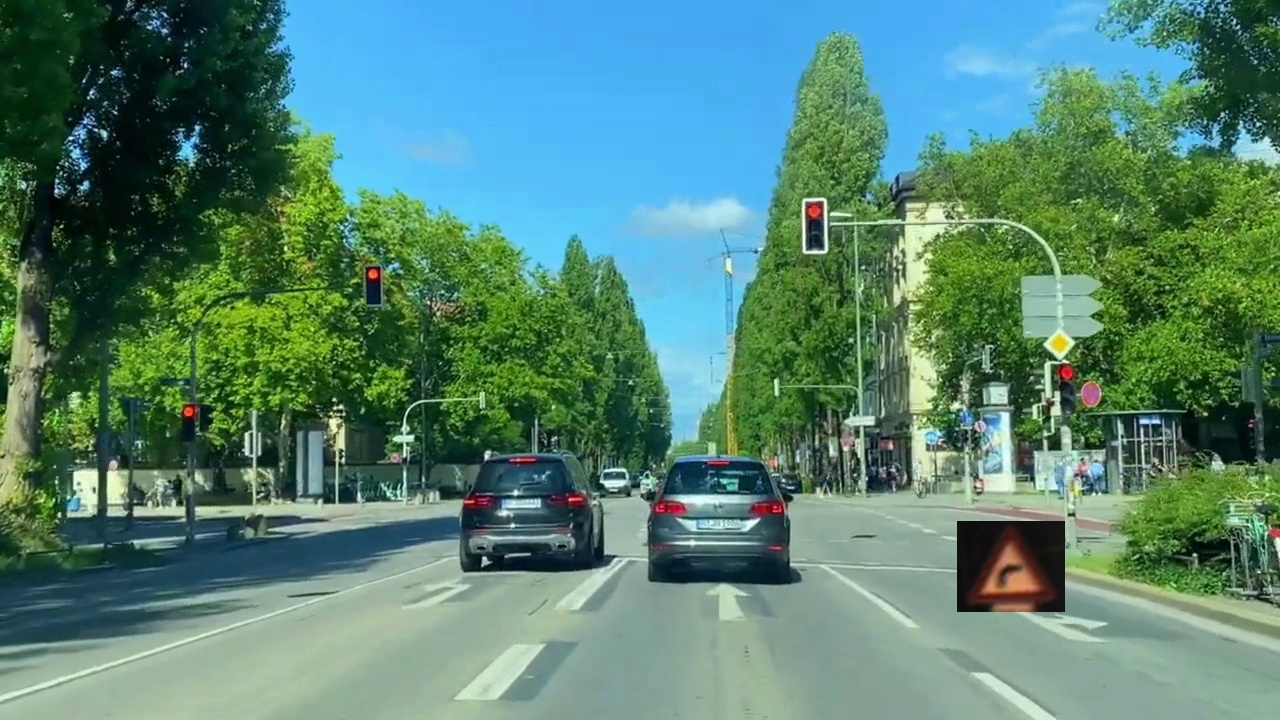Curve right: (957, 521, 1065, 612)
